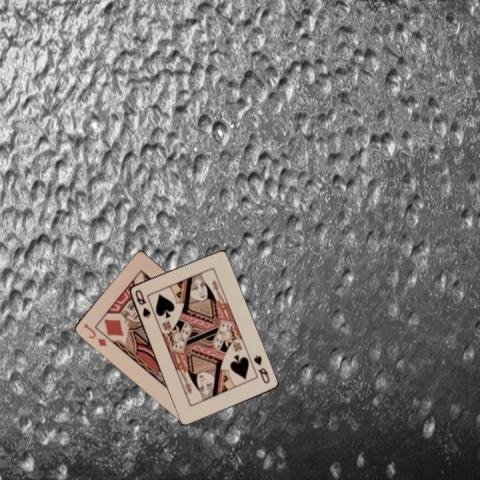Jd: (80, 320, 108, 347)
Qs: (131, 287, 152, 319), (250, 352, 270, 385)
